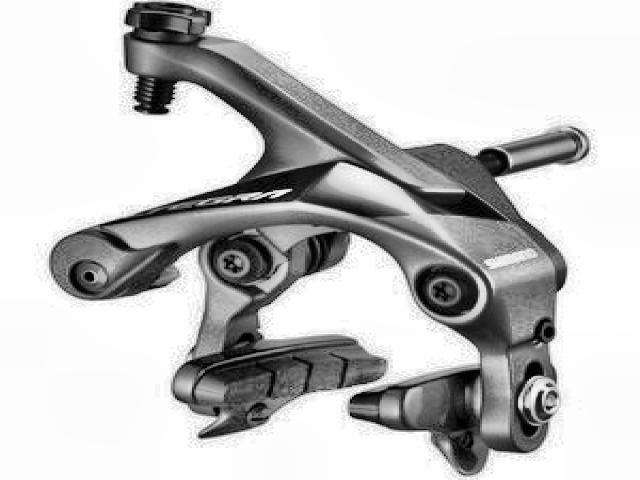rim_brake: (46, 1, 568, 474)
